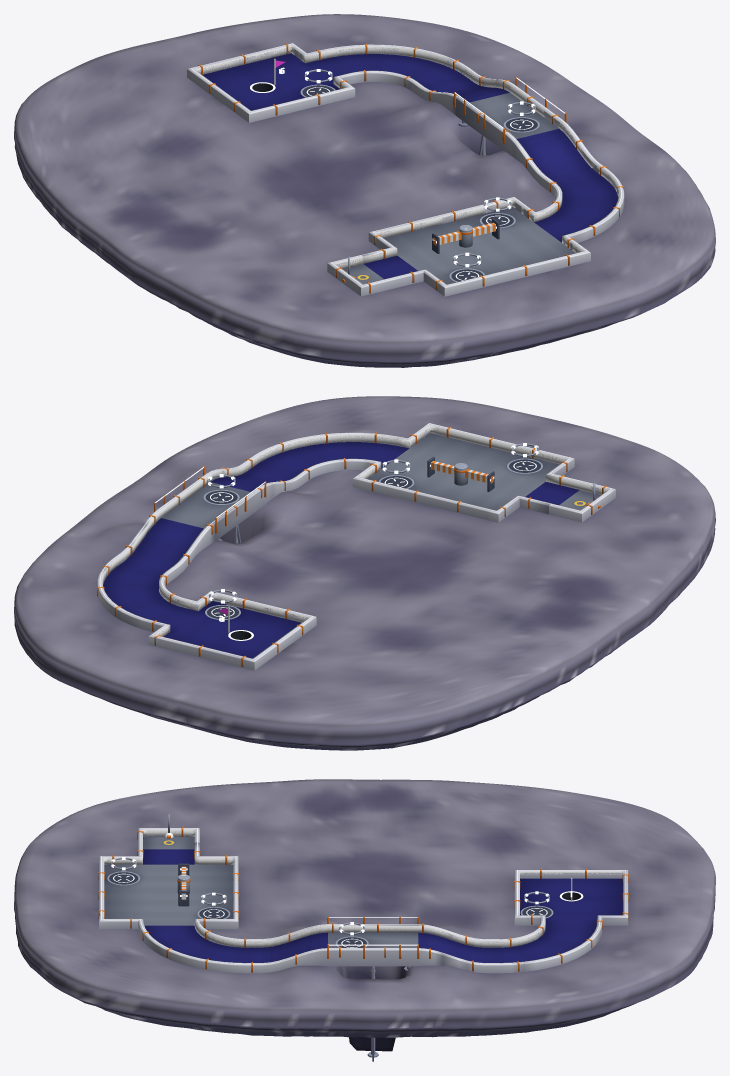
File: course-16.glb
3 views of the same model, one above another, from view 1: azimuth 30°, elevation 25°; view 2: azimuth 150°, elevation 25°; view 3: azimuth 270°, elevation 25° (orthographic). The views are drawn at different scales.
Parts seen in each view (by area): view 1: scenery-matte, rail-trim, floor-felt, floor-metal, rail-metal, scenery-satin, obstacle-radar; view 2: scenery-matte, rail-trim, floor-felt, floor-metal, rail-metal, scenery-satin, obstacle-radar; view 3: scenery-matte, rail-trim, floor-felt, floor-metal, rail-metal, scenery-satin, obstacle-radar.
Part boxes in pixels (<box>): scenery-matte: <box>14,14,715,367</box>; rail-trim: <box>187,43,624,296</box>; floor-felt: <box>202,53,618,279</box>; floor-metal: <box>342,92,575,284</box>; rail-metal: <box>194,45,619,284</box>; scenery-satin: <box>274,58,566,281</box>; obstacle-radar: <box>432,218,499,253</box>; scenery-matte: <box>14,396,715,750</box>; rail-trim: <box>97,423,615,670</box>; floor-felt: <box>103,442,579,658</box>; floor-metal: <box>161,433,600,528</box>; rail-metal: <box>102,425,608,658</box>; scenery-satin: <box>154,459,585,632</box>; obstacle-radar: <box>427,456,494,491</box>; scenery-matte: <box>14,779,715,1051</box>; rail-trim: <box>98,827,628,973</box>; floor-felt: <box>143,849,623,962</box>; floor-metal: <box>104,836,418,947</box>; rail-metal: <box>103,830,623,962</box>; scenery-satin: <box>109,840,572,1061</box>; obstacle-radar: <box>177,863,190,906</box>.
Size of the model in its own units: 18.16 by 4.34 by 23.36.
